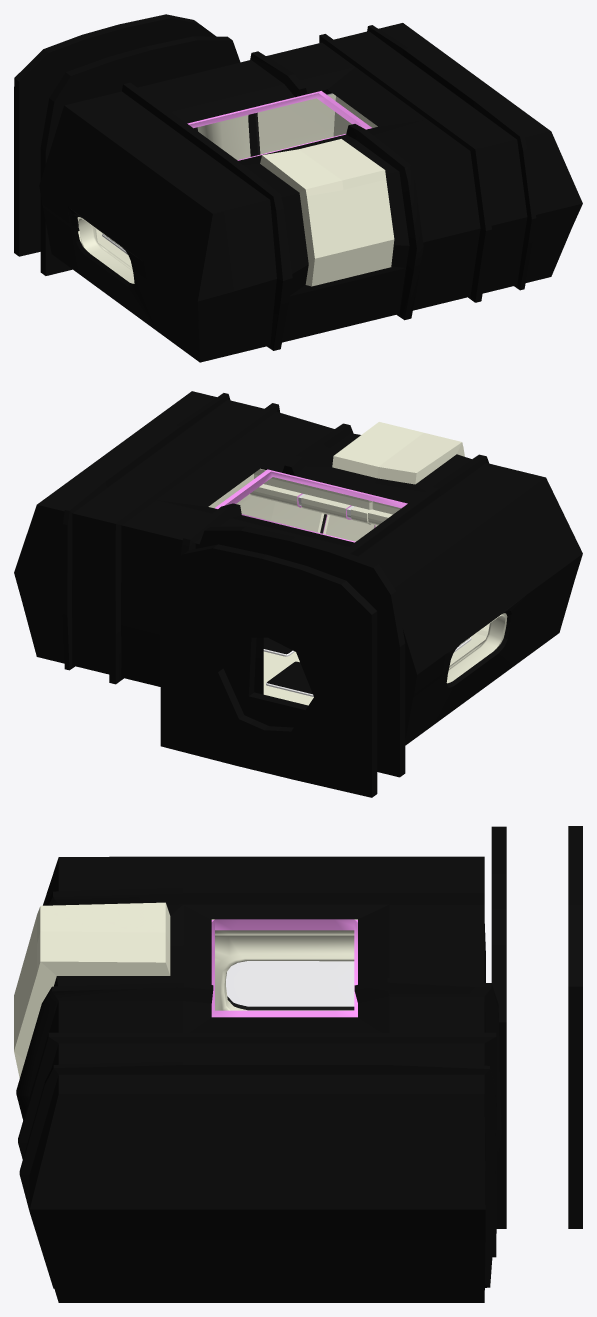
File: Bedroom.fbx
The picture shows the model from 3 angles, top to bottom: view 1: azimuth 30°, elevation 25°; view 2: azimuth 150°, elevation 25°; view 3: azimuth 270°, elevation 25°; orthographic projection. The views are drawn at different scales.
Visible parts, largest first — view 1: Roof_bedr1, group6_group4_Line002, BRoom, To_bedroom1_Line002_group6_group4; view 2: Roof_bedr1, group6_group4_Line002, To_bedroom1_Line002_group6_group4, BRoom; view 3: Roof_bedr1, BRoom, group6_group4_Line002, To_bedroom1_Line002_group6_group4.
Part boxes in pixels (left/top/right/bottom): Roof_bedr1: left=39, top=23, right=582, bottom=362; group6_group4_Line002: left=14, top=14, right=216, bottom=256; BRoom: left=77, top=89, right=377, bottom=283; To_bedroom1_Line002_group6_group4: left=40, top=36, right=240, bottom=275; Roof_bedr1: left=14, top=391, right=582, bottom=745; group6_group4_Line002: left=160, top=544, right=377, bottom=797; To_bedroom1_Line002_group6_group4: left=198, top=526, right=405, bottom=777; BRoom: left=208, top=468, right=507, bottom=705; Roof_bedr1: left=14, top=856, right=501, bottom=1302; BRoom: left=211, top=919, right=357, bottom=1017; group6_group4_Line002: left=568, top=826, right=582, bottom=1228; To_bedroom1_Line002_group6_group4: left=491, top=826, right=506, bottom=1228.
Bounding box in the file's own units: 754 × 381 × 671.
